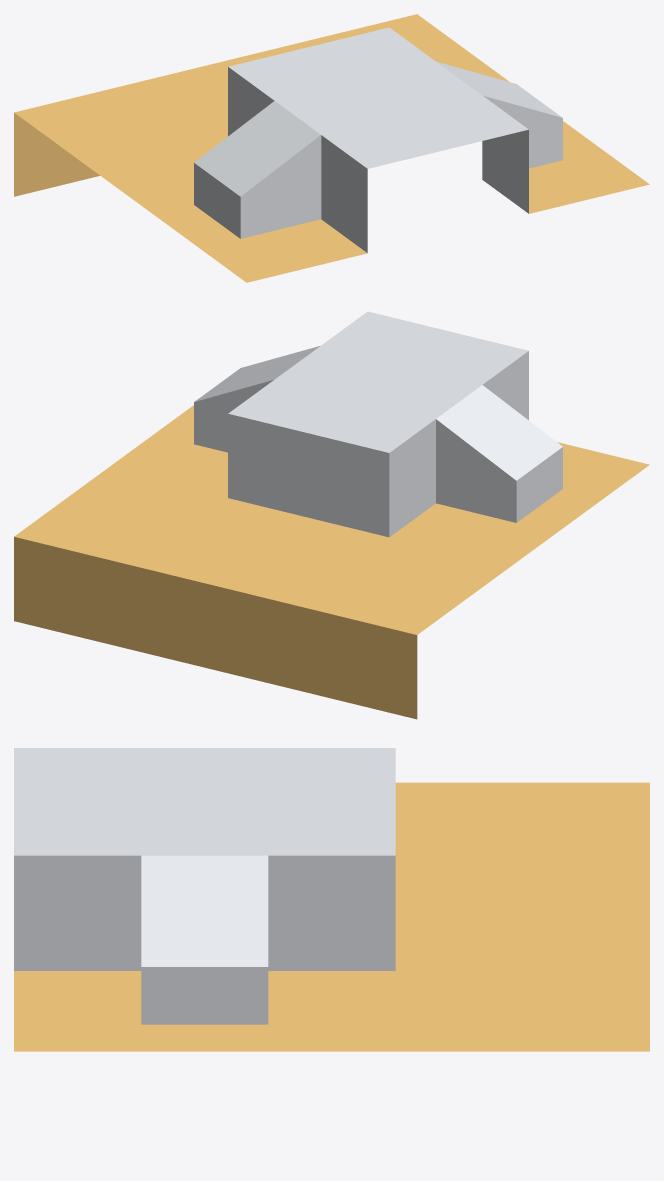
3 renders of one model, top to bottom at view 1: azimuth 30°, elevation 25°; view 2: azimuth 150°, elevation 25°; view 3: azimuth 270°, elevation 25°, orthographic. The views are drawn at different scales.
Size of the model in its own units: 1 by 0.4 by 1.
